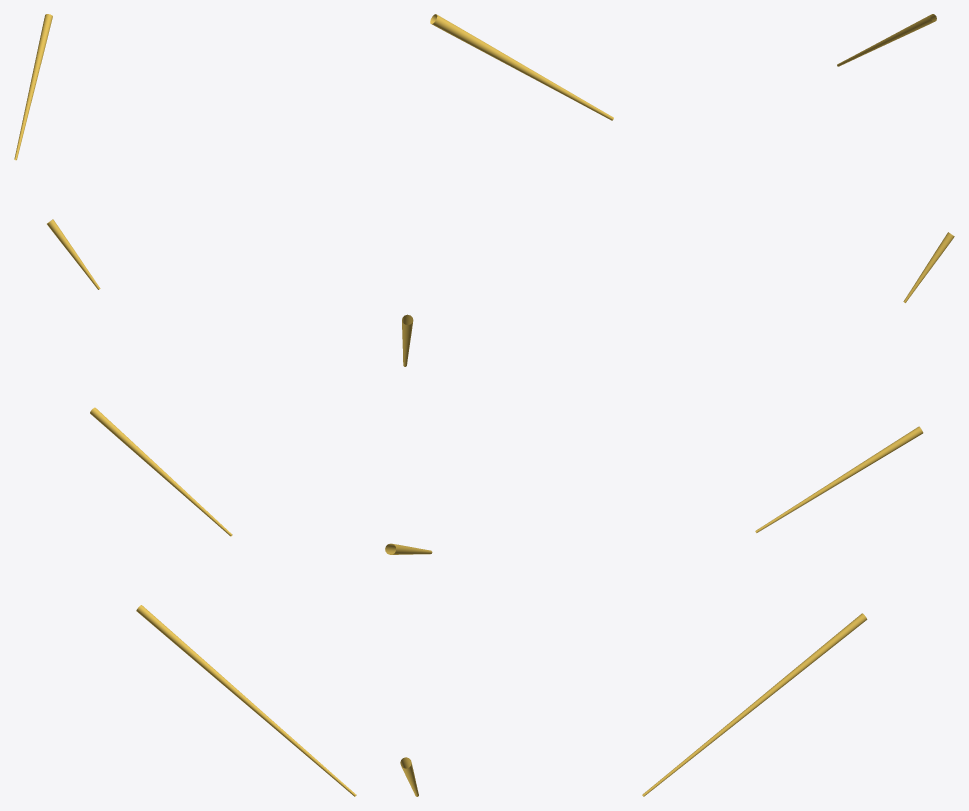
The model's file is Muscular_branches_median_nerve_right.glb.
3 views of the same model, side by side, from view 1: azimuth 30°, elevation 25°; view 2: azimuth 150°, elevation 25°; view 3: azimuth 270°, elevation 25° (orthographic). The views are drawn at different scales.
Parts seen in each view (by area): view 1: Muscular_branches_of_median_nerve.r_BezierCurve.501; view 2: Muscular_branches_of_median_nerve.r_BezierCurve.501; view 3: Muscular_branches_of_median_nerve.r_BezierCurve.501.
Part boxes in pixels (bbox=[...]): Muscular_branches_of_median_nerve.r_BezierCurve.501: bbox=[14, 14, 356, 796]; Muscular_branches_of_median_nerve.r_BezierCurve.501: bbox=[385, 14, 613, 796]; Muscular_branches_of_median_nerve.r_BezierCurve.501: bbox=[642, 14, 954, 796].
Bounding box in the file's own units: 0.0203 × 0.0569 × 0.0229.
